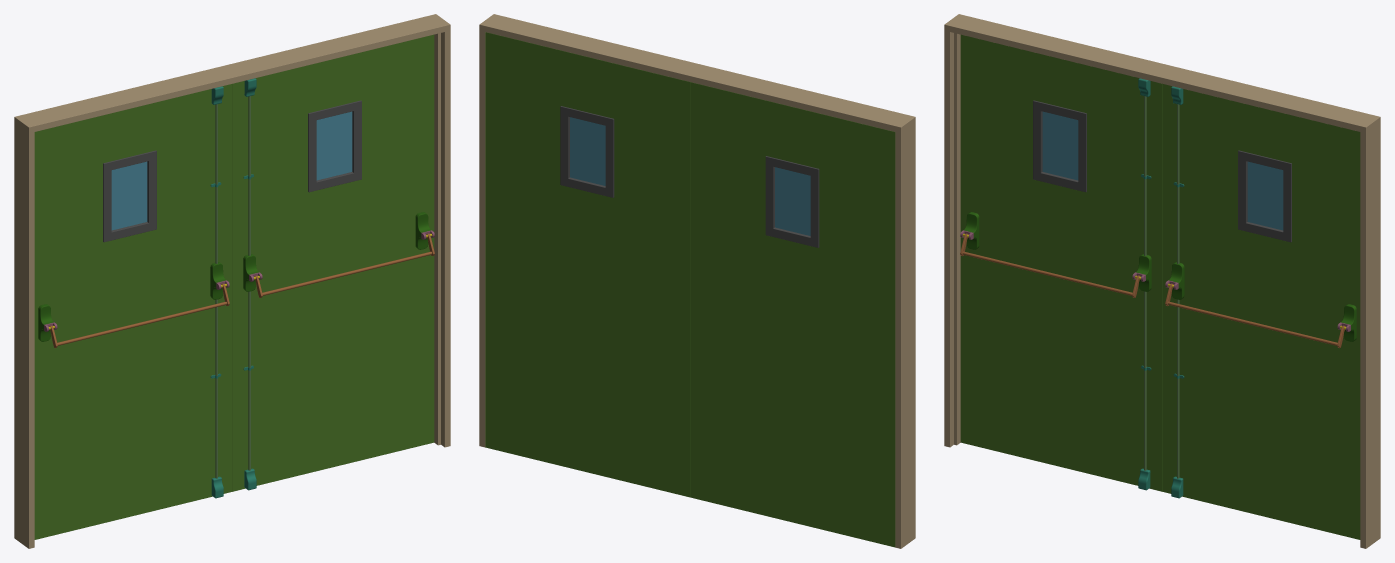
The picture shows the model from 3 angles, left to right: view 1: azimuth 30°, elevation 25°; view 2: azimuth 150°, elevation 25°; view 3: azimuth 330°, elevation 25°; orthographic projection.
Parts seen in each view (by area): view 1: SingleDoor_Type_Tall.025, SingleDoor_Type_Tall.024, SingleDoor_Type_Tall.023, SingleDoor_Type_Tall.027, SingleDoor_Type_Tall.039, SingleDoor_Type_Tall.026, SingleDoor_Type_Tall.040, Emergancey_Door_Pole.000, Emergancey_Door_Pole.001, Emergancey_Door_Handel_Holder.000_Emergancey_Door_Handel_Hol, Emergancey_Door_Handel.001, Emergancey_Door_Handel.000 (+1 smaller); view 2: SingleDoor_Type_Tall.024, SingleDoor_Type_Tall.025, SingleDoor_Type_Tall.023, SingleDoor_Type_Tall.026, SingleDoor_Type_Tall.040, SingleDoor_Type_Tall.039, SingleDoor_Type_Tall.027; view 3: SingleDoor_Type_Tall.024, SingleDoor_Type_Tall.025, SingleDoor_Type_Tall.023, SingleDoor_Type_Tall.027, SingleDoor_Type_Tall.039, SingleDoor_Type_Tall.040, SingleDoor_Type_Tall.026, Emergancey_Door_Pole.001, Emergancey_Door_Pole.000, Emergancey_Door_Handel_Holder.001_Emergancey_Door_Handel_Hol, Emergancey_Door_Handel.000, Emergancey_Door_Handel.001 (+1 smaller).
Boxes of the visible parts, <box> form: SingleDoor_Type_Tall.025: <box>232,34,434,491</box>; SingleDoor_Type_Tall.024: <box>34,84,231,539</box>; SingleDoor_Type_Tall.023: <box>14,14,450,548</box>; SingleDoor_Type_Tall.027: <box>111,161,147,230</box>; SingleDoor_Type_Tall.039: <box>316,111,352,180</box>; SingleDoor_Type_Tall.026: <box>103,150,156,242</box>; SingleDoor_Type_Tall.040: <box>308,100,361,192</box>; Emergancey_Door_Pole.000: <box>248,96,250,470</box>; Emergancey_Door_Pole.001: <box>215,104,217,478</box>; Emergancey_Door_Handel_Holder.000_Emergancey_Door_Handel_Hol: <box>243,212,430,291</box>; Emergancey_Door_Handel.001: <box>49,283,229,347</box>; Emergancey_Door_Handel.000: <box>254,233,434,297</box>; SingleDoor_Type_Tall.024: <box>690,82,895,547</box>; SingleDoor_Type_Tall.025: <box>485,32,690,497</box>; SingleDoor_Type_Tall.023: <box>479,14,915,548</box>; SingleDoor_Type_Tall.026: <box>765,156,819,247</box>; SingleDoor_Type_Tall.040: <box>560,106,614,197</box>; SingleDoor_Type_Tall.039: <box>570,117,605,185</box>; SingleDoor_Type_Tall.027: <box>775,167,810,235</box>; SingleDoor_Type_Tall.024: <box>960,34,1162,491</box>; SingleDoor_Type_Tall.025: <box>1163,84,1360,539</box>; SingleDoor_Type_Tall.023: <box>944,14,1380,548</box>; SingleDoor_Type_Tall.027: <box>1042,111,1078,180</box>; SingleDoor_Type_Tall.039: <box>1247,161,1283,230</box>; SingleDoor_Type_Tall.040: <box>1238,150,1291,242</box>; SingleDoor_Type_Tall.026: <box>1033,100,1086,192</box>; Emergancey_Door_Pole.001: <box>1144,96,1146,470</box>; Emergancey_Door_Pole.000: <box>1177,104,1179,478</box>; Emergancey_Door_Handel_Holder.001_Emergancey_Door_Handel_Hol: <box>964,212,1151,291</box>; Emergancey_Door_Handel.000: <box>1165,283,1345,347</box>; Emergancey_Door_Handel.001: <box>960,233,1140,297</box>.
Size of the model in its own units: 21.99 by 21 by 1.9.
